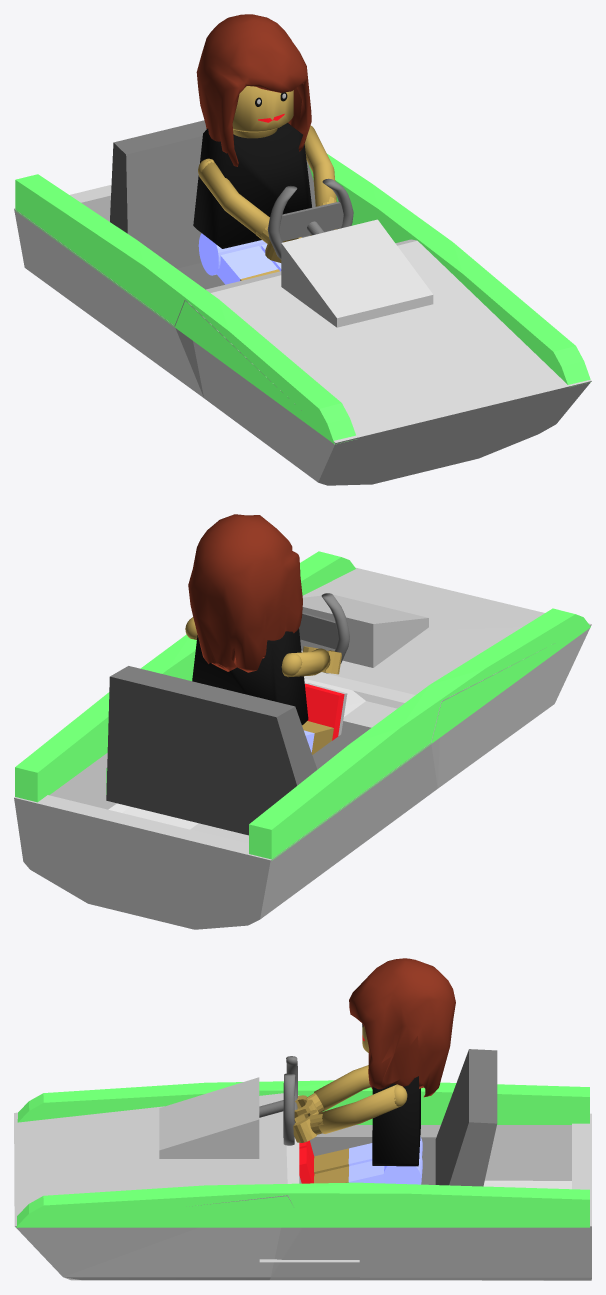
Rendered from pedalinho verde+personagem.fbx.
3 views of the same model, one above another, from view 1: azimuth 30°, elevation 25°; view 2: azimuth 150°, elevation 25°; view 3: azimuth 270°, elevation 25° (orthographic). The views are drawn at different scales.
Visible parts, largest first — view 1: Cube.001, Cubo.001_Cubo.001, Cilindro.003; view 2: Cube.001, Cubo.001_Cubo.001, Cilindro.003; view 3: Cube.001, Cubo.001_Cubo.001, Cilindro.003.
Boxes of the visible parts, <box> form: Cube.001: <box>14,120,591,485</box>; Cubo.001_Cubo.001: <box>193,14,339,284</box>; Cilindro.003: <box>267,178,353,259</box>; Cube.001: <box>14,551,591,929</box>; Cubo.001_Cubo.001: <box>185,514,347,754</box>; Cilindro.003: <box>299,593,349,673</box>; Cube.001: <box>14,1049,591,1280</box>; Cubo.001_Cubo.001: <box>293,958,455,1184</box>; Cilindro.003: <box>259,1056,297,1145</box>.
Bounding box in the file's own units: 533 × 638 × 1155.
